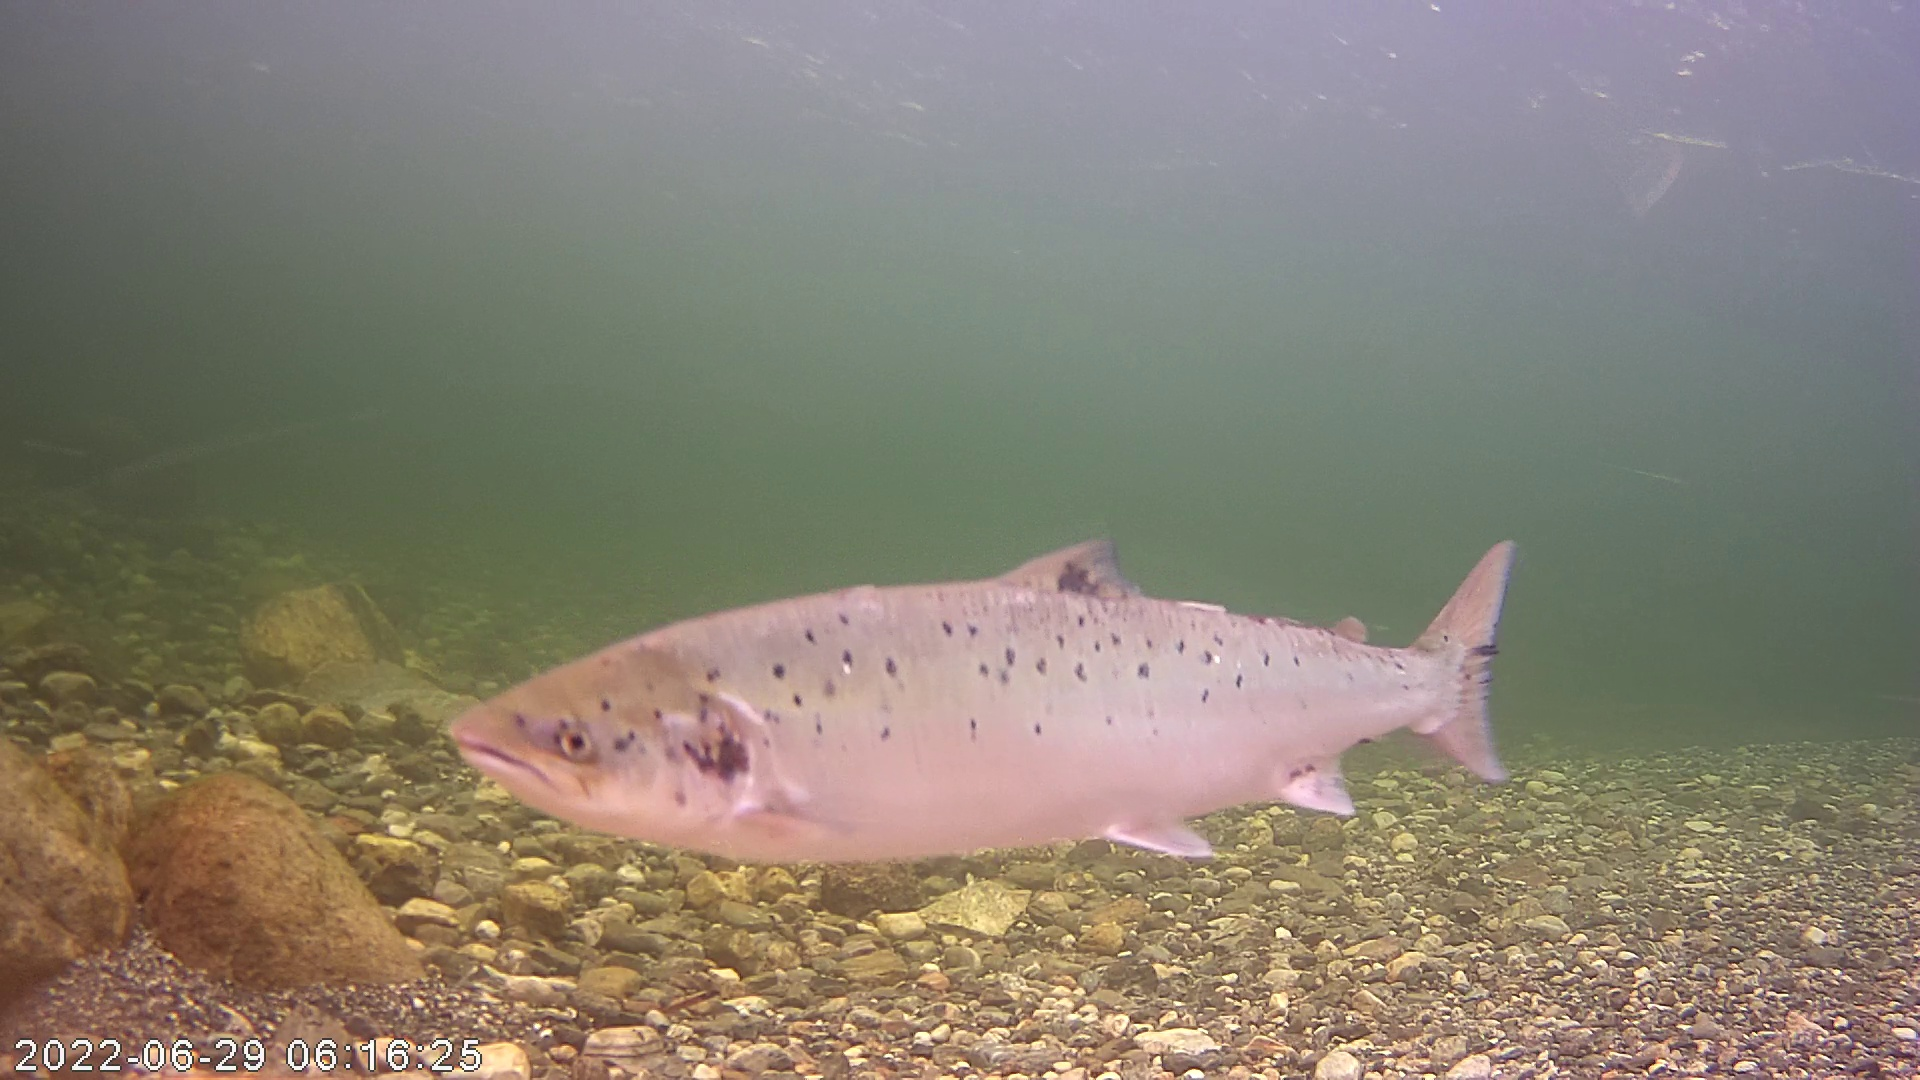salmon: (484, 425, 1523, 872)
